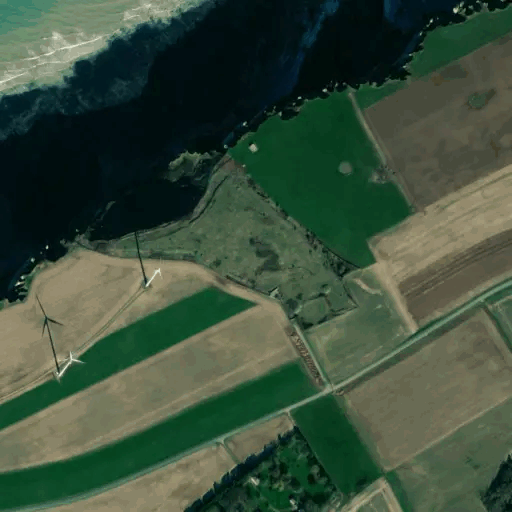wt: (35, 294, 86, 386), (128, 223, 165, 297)
